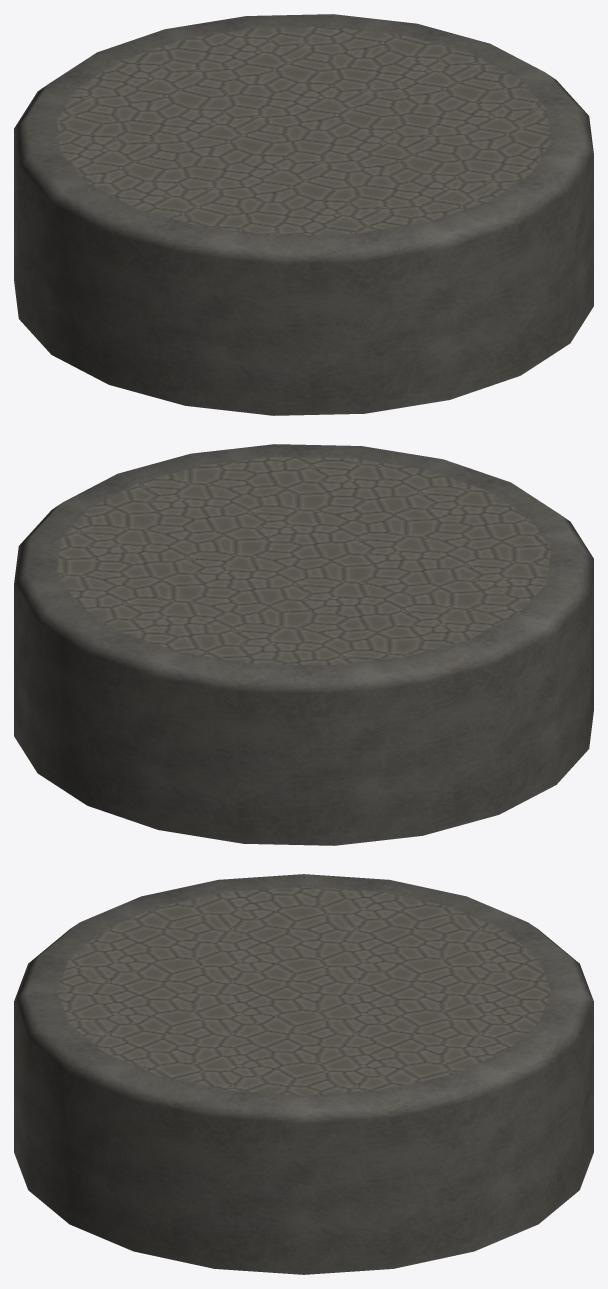
The model's file is Tower_Base.fbx.
3 renders of one model, top to bottom at view 1: azimuth 30°, elevation 25°; view 2: azimuth 150°, elevation 25°; view 3: azimuth 270°, elevation 25°, orthographic.
Visible parts, largest first — view 1: Tower_Base; view 2: Tower_Base; view 3: Tower_Base.
Boxes of the visible parts, box(x1,y1,x2,y2) form: Tower_Base: box(14, 14, 593, 415); Tower_Base: box(14, 444, 593, 845); Tower_Base: box(14, 874, 593, 1274).
Size of the model in its own units: 59.87 by 18.37 by 59.87.
